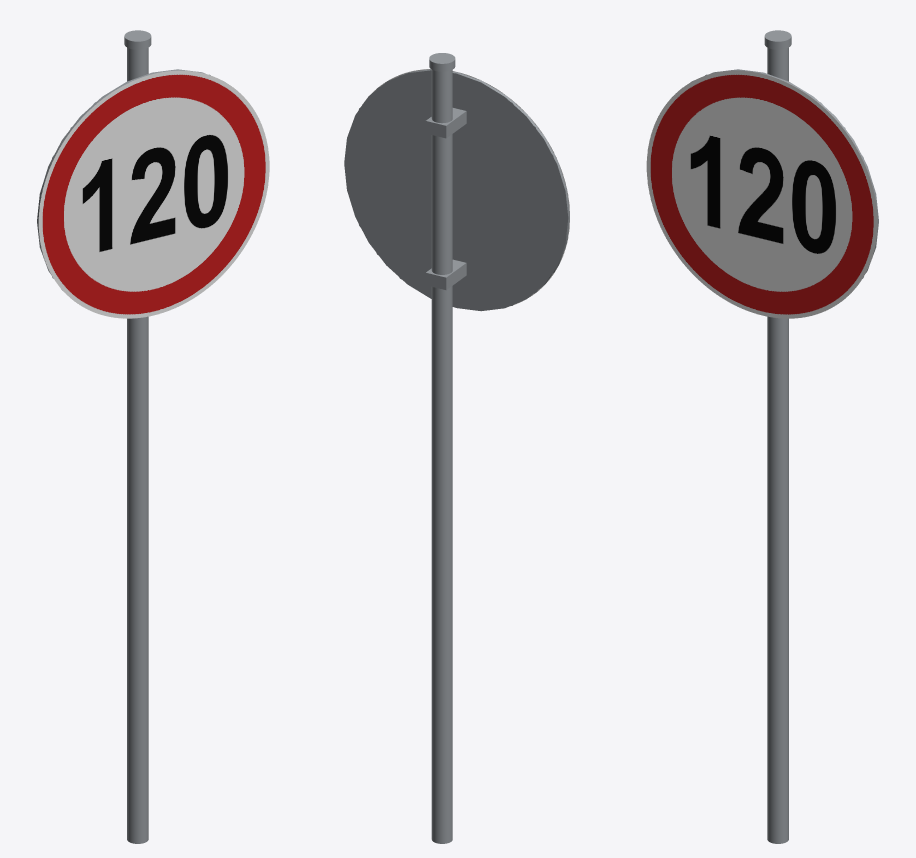
Rendered from sign_speed120kph.dae.
3 renders of one model, left to right at view 1: azimuth 30°, elevation 25°; view 2: azimuth 150°, elevation 25°; view 3: azimuth 330°, elevation 25°, orthographic. The views are drawn at different scales.
Visible parts, largest first — view 1: sign128, sign48, sign4; view 2: sign128, sign48, sign4; view 3: sign128, sign48, sign4.
Boxes of the visible parts, x1=… form: sign128: x1=37, y1=30, x2=269, y2=843; sign48: x1=52, y1=30, x2=210, y2=843; sign4: x1=70, y1=30, x2=150, y2=843; sign128: x1=344, y1=53, x2=569, y2=843; sign48: x1=344, y1=53, x2=567, y2=843; sign4: x1=344, y1=53, x2=567, y2=843; sign128: x1=646, y1=30, x2=878, y2=843; sign48: x1=705, y1=30, x2=863, y2=843; sign4: x1=765, y1=30, x2=845, y2=843.
Bounding box in the file's own units: 0.9 × 0.1275 × 2.47.
2 materials, 1 textured.
